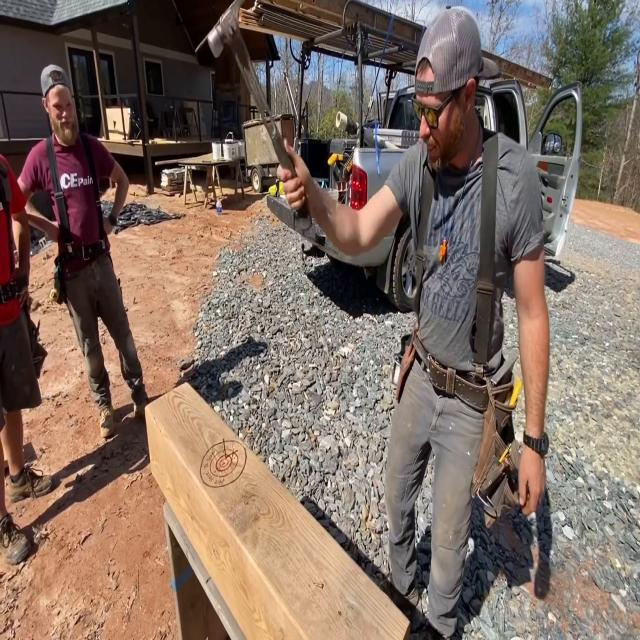hammer: (207, 2, 308, 224)
